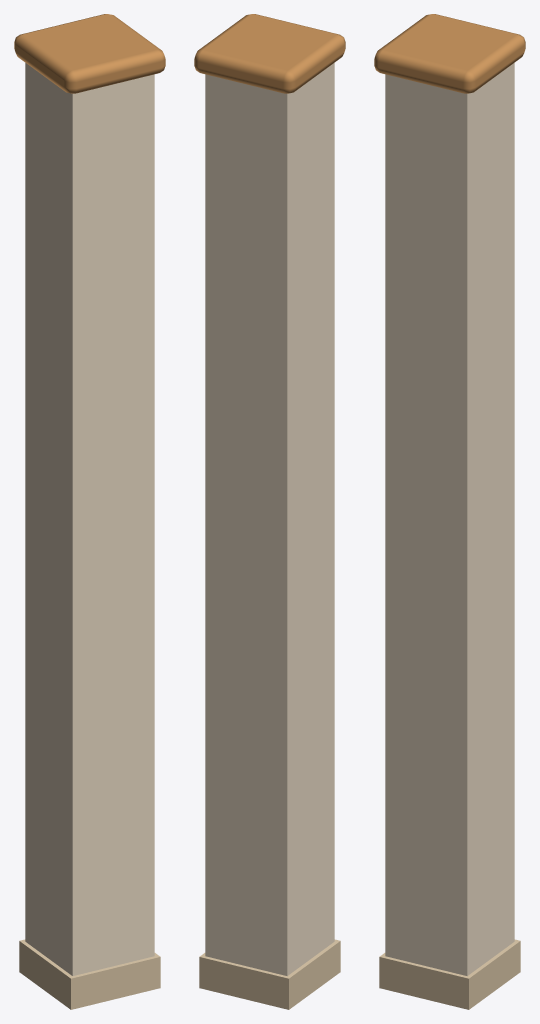
The model's file is wg_pfosten_voll.glb.
3 renders of one model, left to right at view 1: azimuth 30°, elevation 25°; view 2: azimuth 150°, elevation 25°; view 3: azimuth 330°, elevation 25°, orthographic.
Parts seen in each view (by area): view 1: wg_pfosten_voll; view 2: wg_pfosten_voll; view 3: wg_pfosten_voll.
Boxes of the visible parts, <box> form: wg_pfosten_voll: <box>14,14,165,1009</box>; wg_pfosten_voll: <box>194,14,345,1009</box>; wg_pfosten_voll: <box>374,14,525,1009</box>.
Size of the model in its own units: 0.27 by 2.4 by 0.27.
